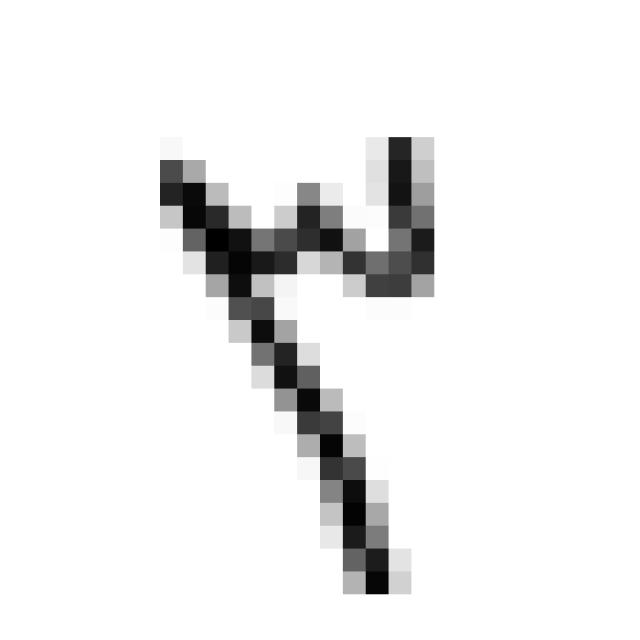3 -three-: (137, 103, 460, 614)
